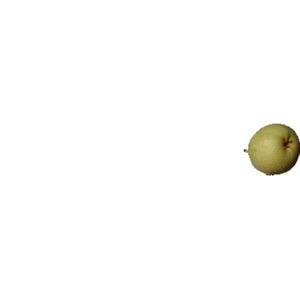pera: (244, 123, 300, 176)
